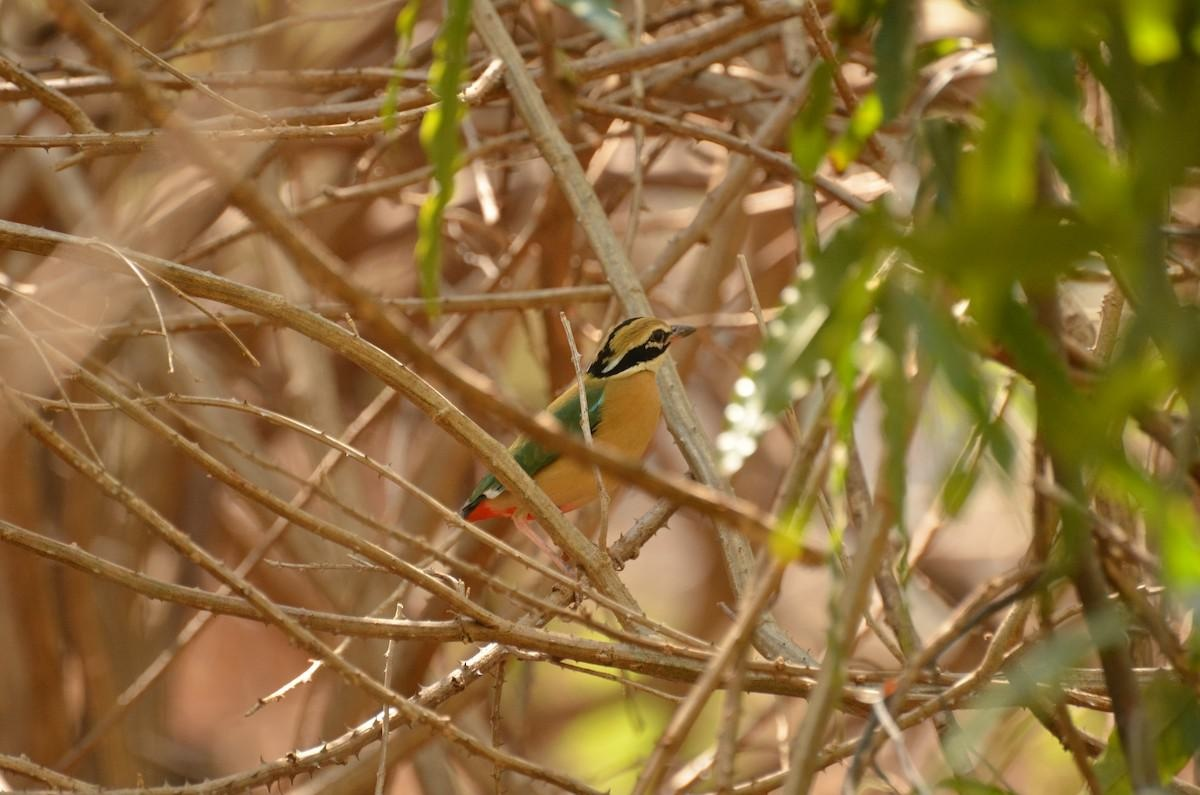pitta: (425, 291, 710, 572)
